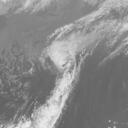cyclone: (48, 34, 83, 76)
